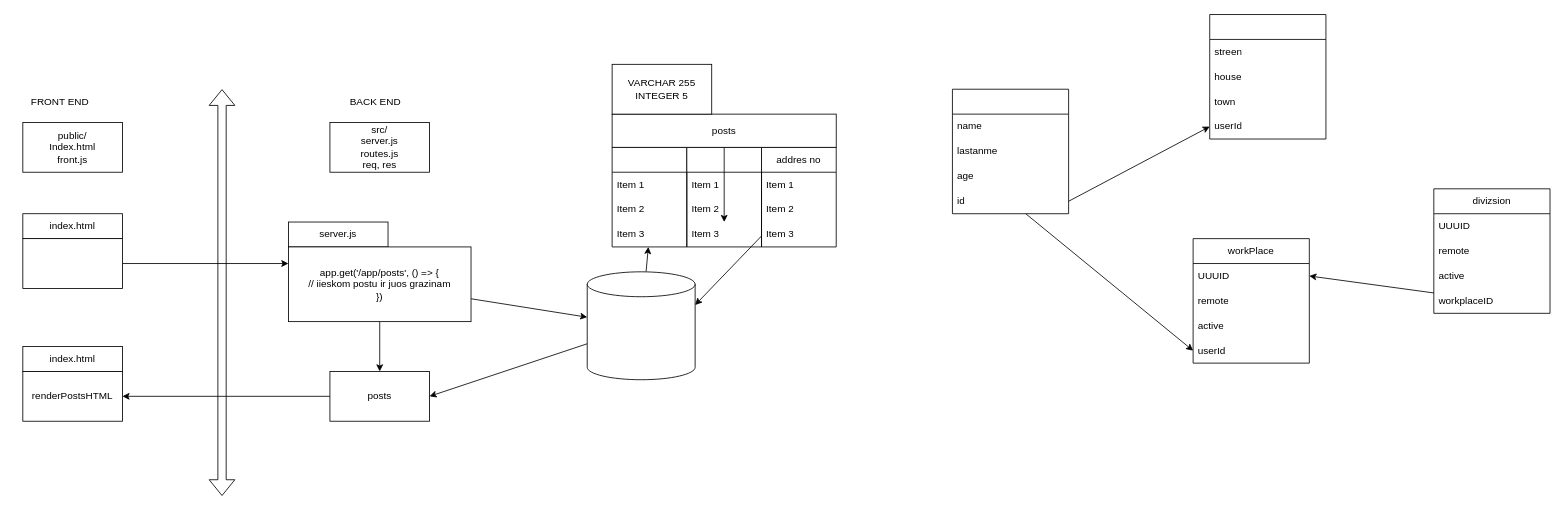
The diagram is 1565 pixels wide and 510 high, and some of its shapes have lost their labels. Each missing label, with the box of its shape:
Address: (1209, 14, 1326, 139)
GET - /app/posts: (22, 238, 122, 288)
Mysql DB: (586, 271, 695, 380)
passwords: (686, 146, 762, 247)
username: (611, 146, 687, 247)
Users: (952, 88, 1069, 214)
